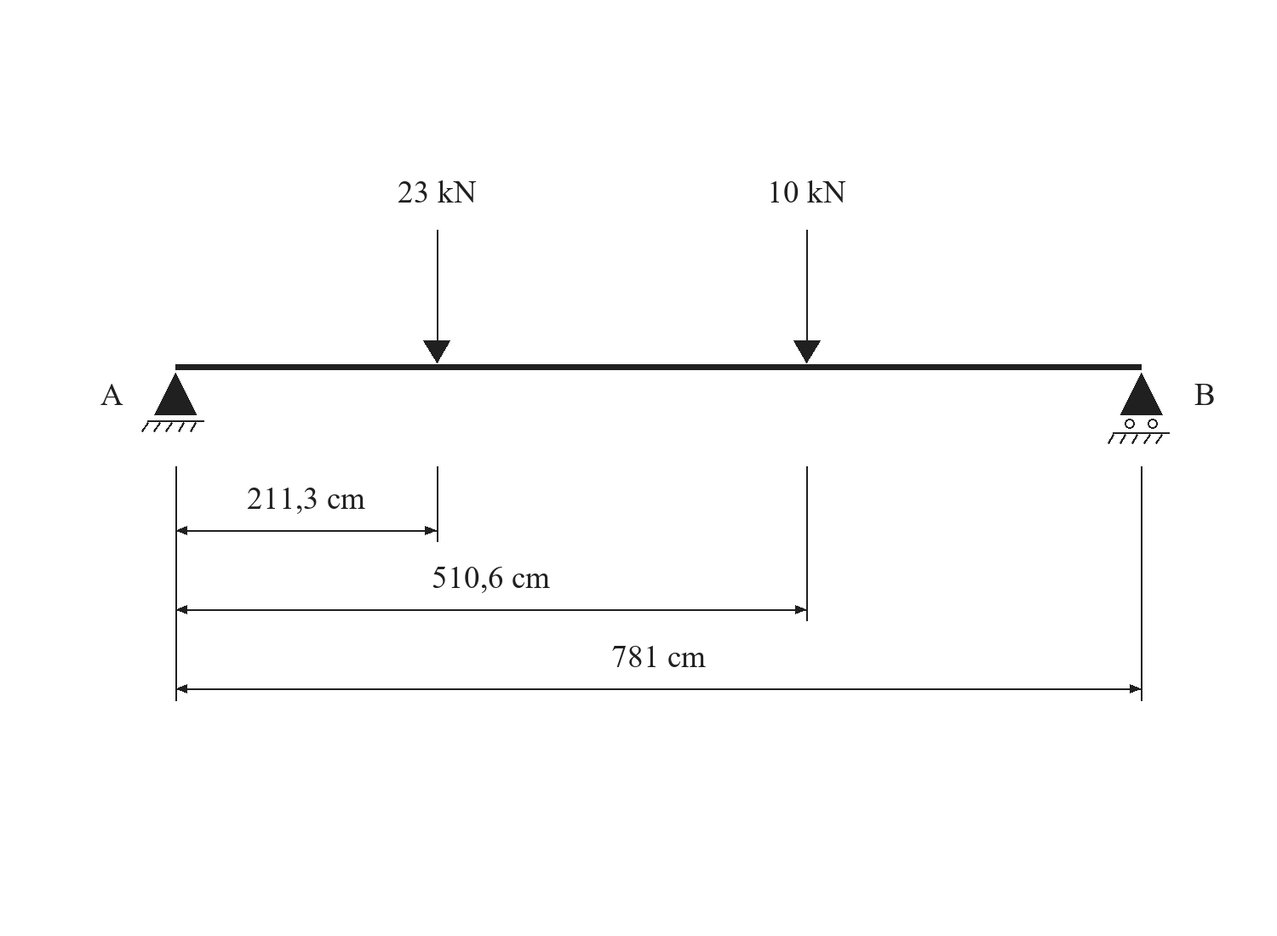pin_support: (141, 373, 204, 432)
point_load: (793, 230, 821, 363), (423, 230, 450, 363)
roller_support: (1108, 373, 1170, 444)
